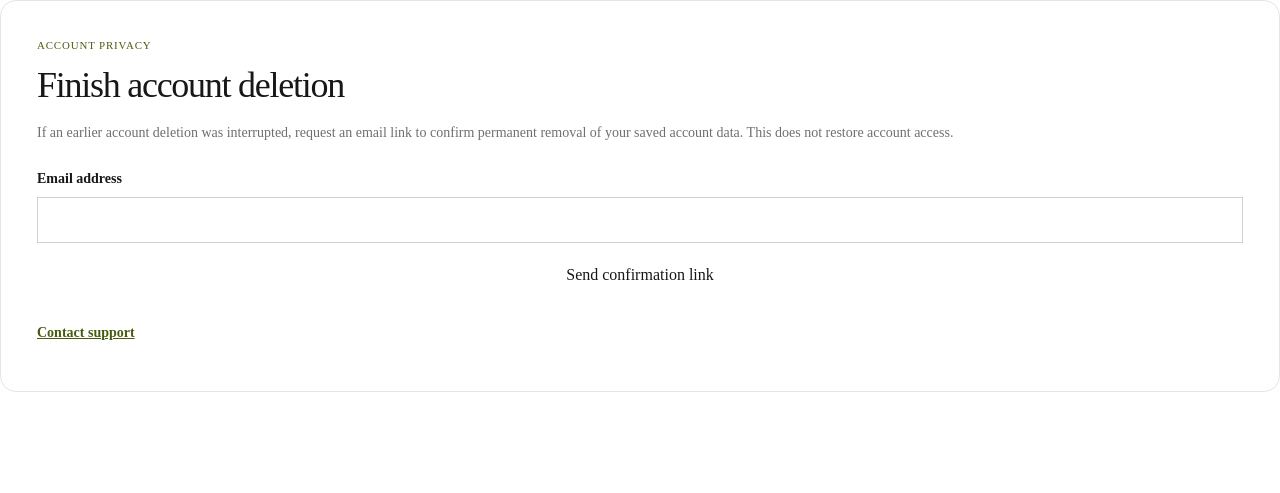
Test: explicit owner erasure recovery › makes no automatic request and sends only a generic email-link request on a human action
Type "synthetic@example.invalid" into the field labelled "Email address".
click(640, 220); type("synthetic@example.invalid")  # box [37,197,1243,243]
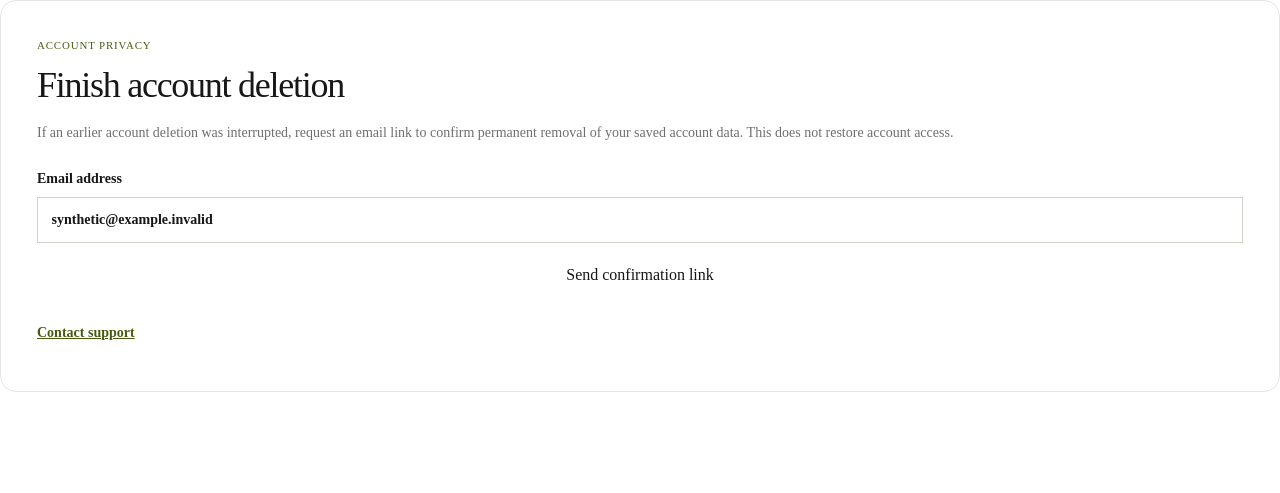
Click the button "Send confirmation link".
click(640, 275)  # box [37,263,1243,287]
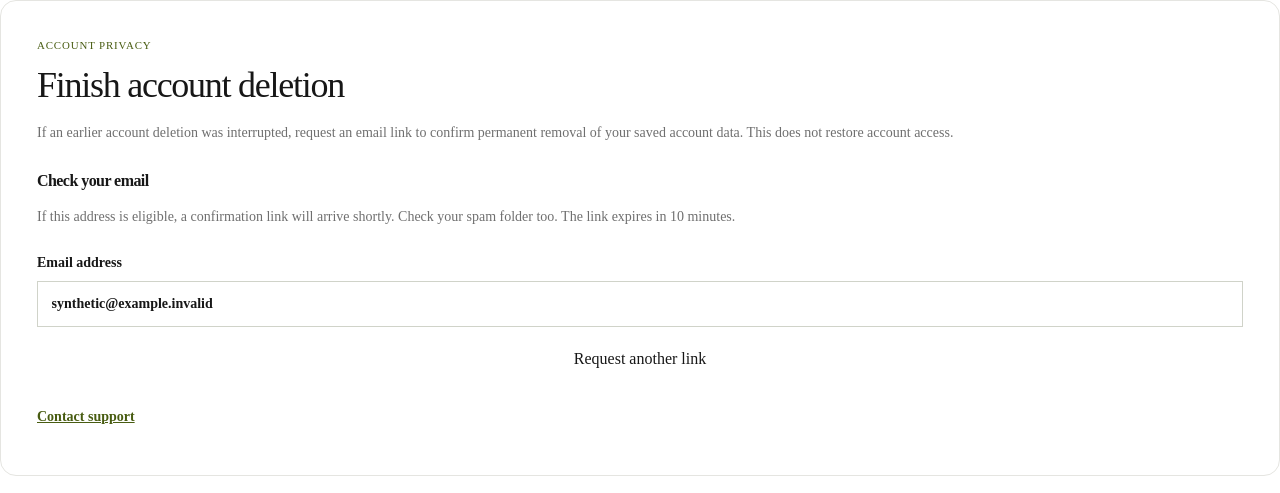
Result: the heading "Check your email" is shown at [37,172,149,189]
Result: the message shows "If this address is eligible" at [37,209,735,224]
Result: the message shows "10 minutes" at [37,209,735,224]
